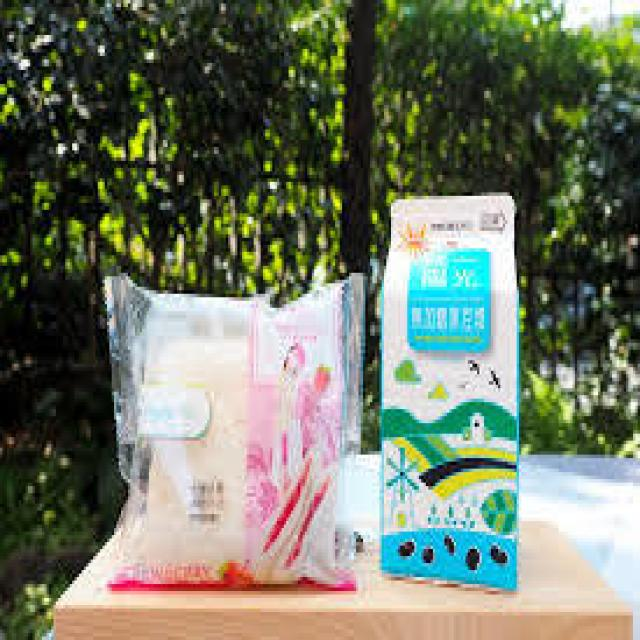TongYi_UnsweetenedBlackSoyMilk: (384, 196, 522, 584)
